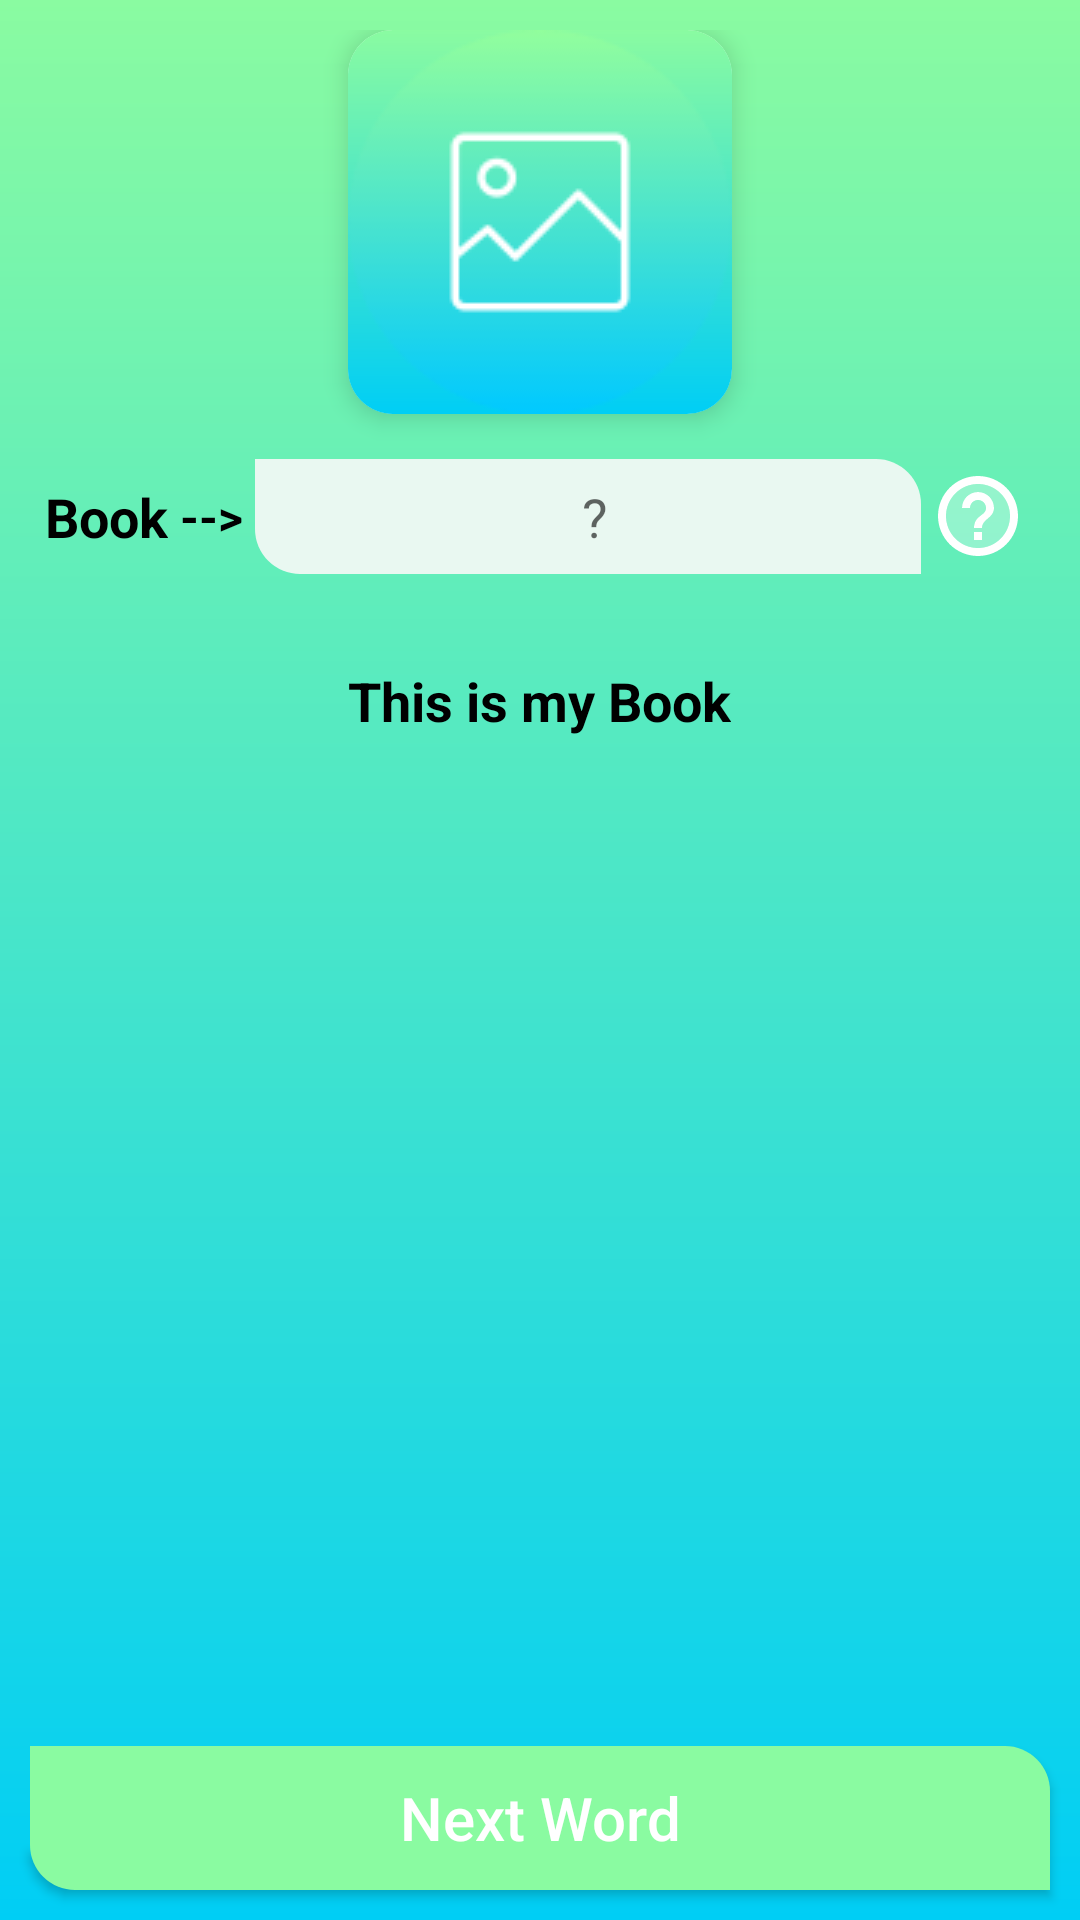

Locate icon controls on the screen. Image size 1080×1920, boxes as (x1, y1, x2, y2).
help: (938, 476, 1018, 556)
